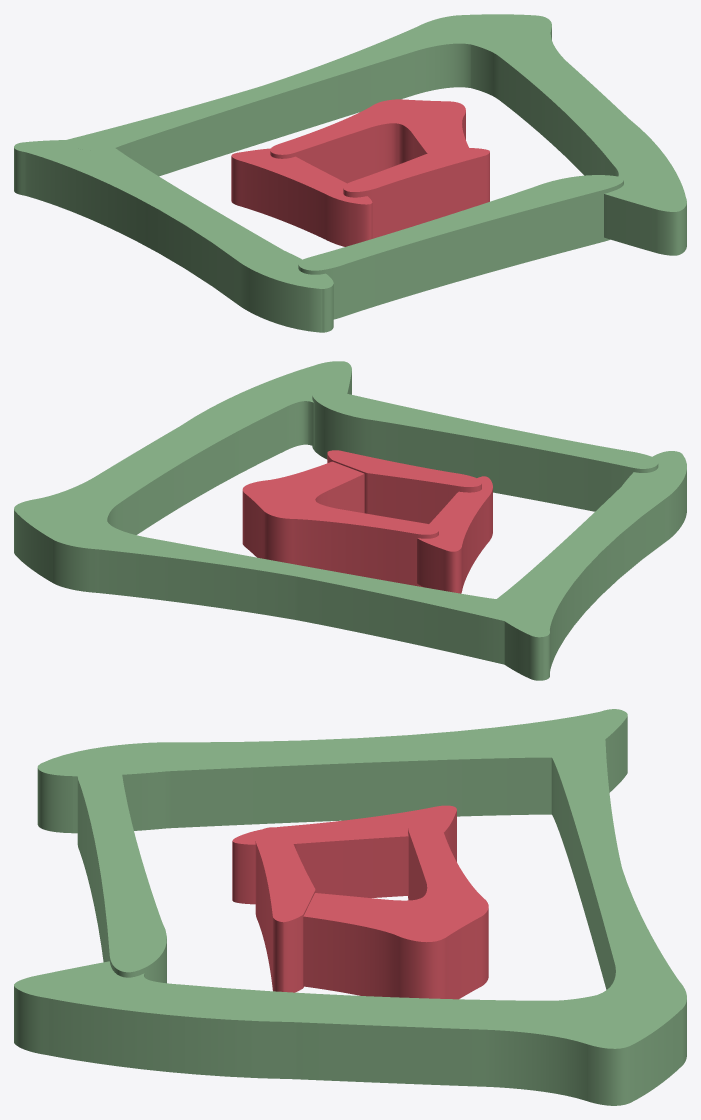
Rendered from hanzi87.fbx.
The picture shows the model from 3 angles, top to bottom: view 1: azimuth 30°, elevation 25°; view 2: azimuth 150°, elevation 25°; view 3: azimuth 270°, elevation 25°; orthographic projection. The views are drawn at different scales.
Visible parts, largest first — view 1: Curve.001, Curve, Curve.005, Curve.003, Curve.002, Curve.004; view 2: Curve.001, Curve.005, Curve, Curve.003, Curve.004, Curve.002; view 3: Curve.001, Curve, Curve.003, Curve.005, Curve.002, Curve.004.
Boxes of the visible parts, x1=… form: Curve.001: x1=61, y1=14, x2=686, y2=255; Curve: x1=14, y1=140, x2=333, y2=332; Curve.005: x1=298, y1=175, x2=623, y2=319; Curve.003: x1=270, y1=99, x2=468, y2=183; Curve.002: x1=231, y1=148, x2=372, y2=246; Curve.004: x1=343, y1=148, x2=489, y2=238; Curve.001: x1=14, y1=361, x2=517, y2=664; Curve.005: x1=312, y1=390, x2=658, y2=511; Curve: x1=497, y1=451, x2=686, y2=680; Curve.003: x1=242, y1=461, x2=438, y2=587; Curve.004: x1=327, y1=450, x2=481, y2=523; Curve.002: x1=417, y1=476, x2=492, y2=593; Curve.001: x1=14, y1=734, x2=686, y2=1105; Curve: x1=37, y1=709, x2=627, y2=833; Curve.003: x1=303, y1=819, x2=488, y2=999; Curve.005: x1=77, y1=760, x2=166, y2=983; Curve.002: x1=232, y1=805, x2=456, y2=904; Curve.004: x1=255, y1=827, x2=315, y2=992.
Bounding box in the file's own units: 21.56 × 18.04 × 2.18.
